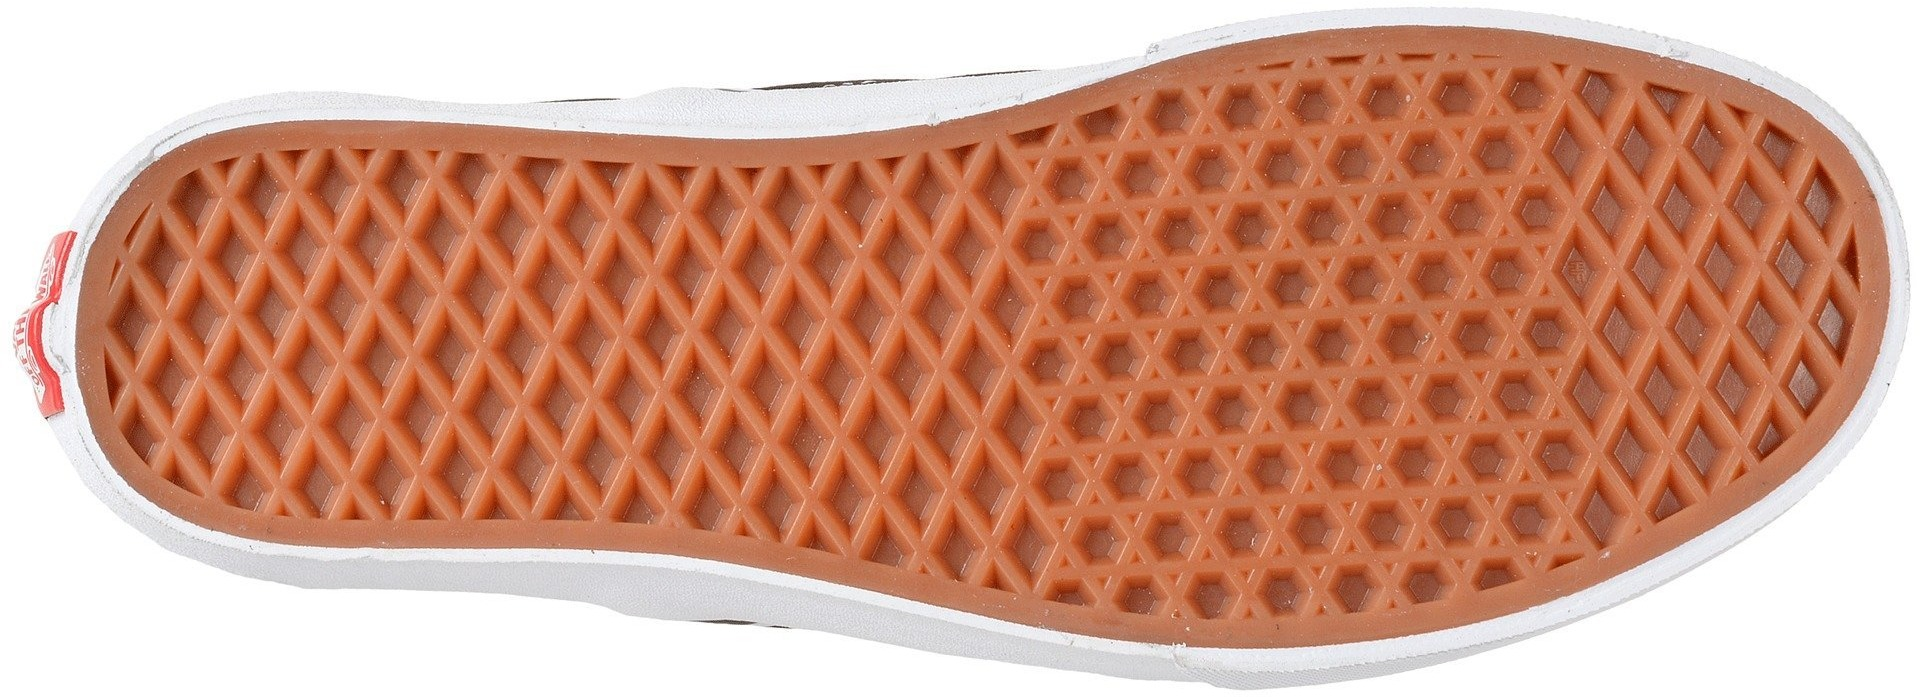polygon: (1273, 307, 1513, 551), (1033, 339, 1255, 572), (1236, 69, 1450, 295), (1022, 130, 1222, 327)
quad: (129, 224, 358, 448), (1592, 138, 1816, 361), (793, 168, 1011, 394), (576, 176, 784, 379), (362, 171, 564, 367), (839, 398, 1007, 581), (1589, 370, 1730, 514), (378, 375, 522, 514), (580, 401, 719, 517)
triangle: (1273, 307, 1513, 551), (1033, 339, 1255, 572), (1236, 69, 1450, 295), (1022, 130, 1222, 327)
